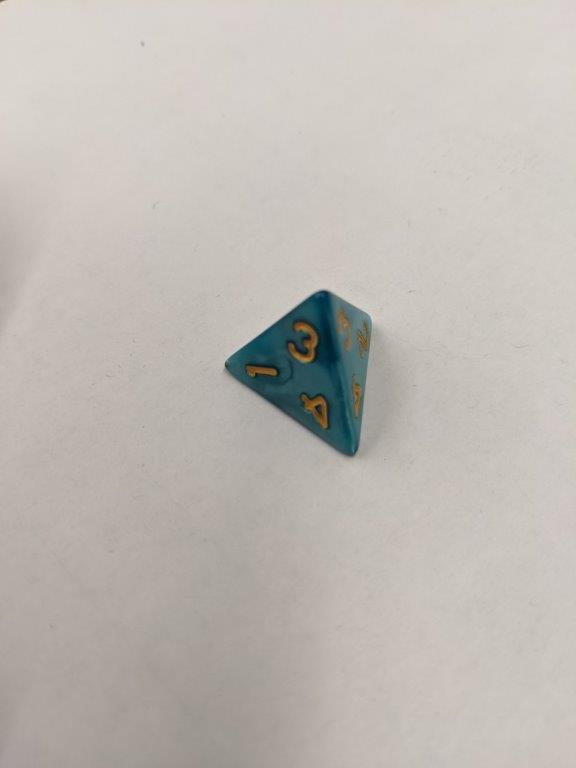d4-3: (223, 288, 379, 459)
